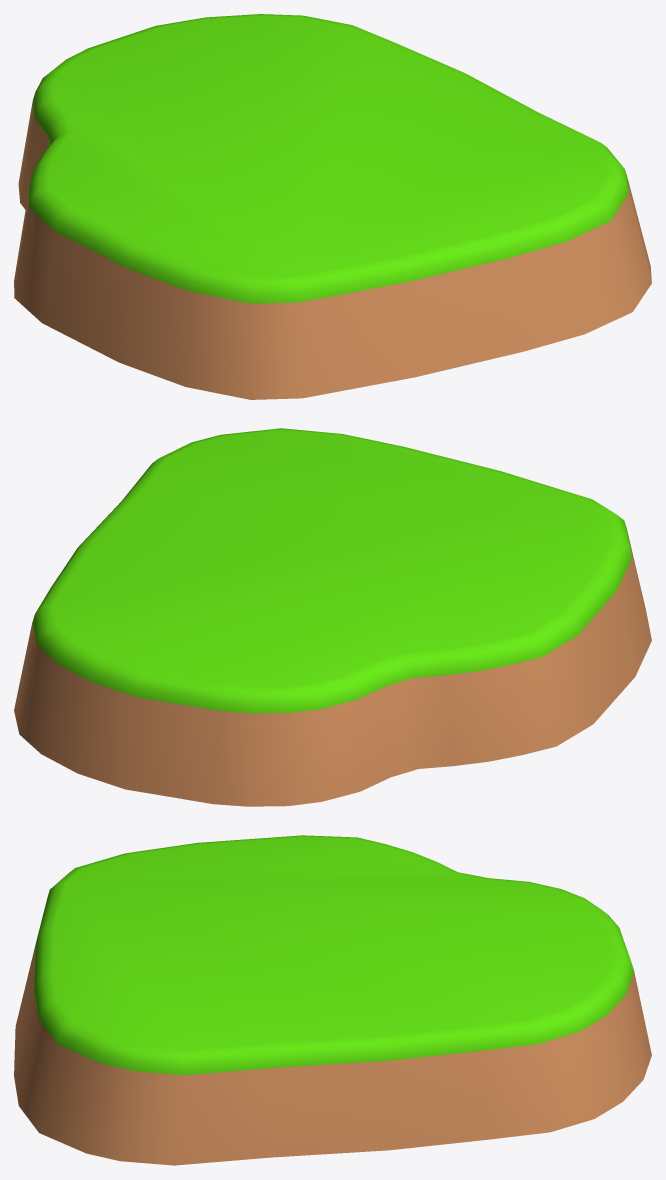
File: Hill_3.fbx
The picture shows the model from 3 angles, top to bottom: view 1: azimuth 30°, elevation 25°; view 2: azimuth 150°, elevation 25°; view 3: azimuth 270°, elevation 25°; orthographic projection. The views are drawn at different scales.
Visible parts, largest first — view 1: Hill_3; view 2: Hill_3; view 3: Hill_3.
Boxes of the visible parts, x1,y1,x2,y2 form: Hill_3: (14,14,651,399); Hill_3: (14,428,651,806); Hill_3: (14,835,651,1165).
Bounding box in the file's own units: 10.46 × 2 × 11.58.
